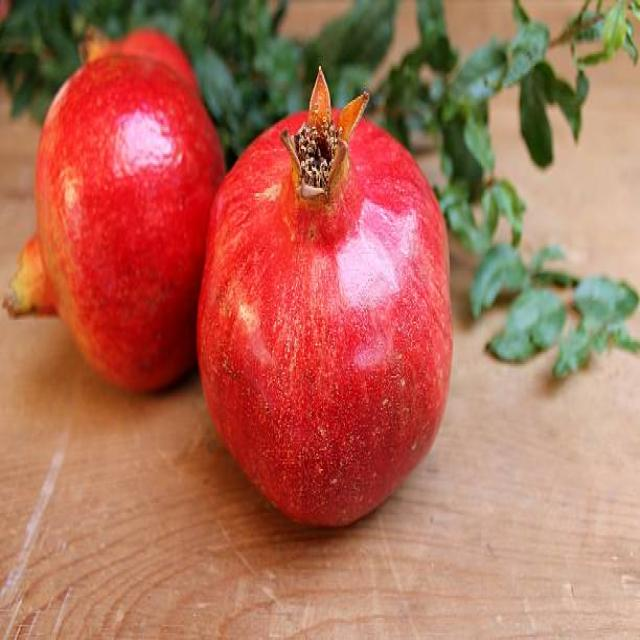Ripe: (196, 77, 457, 534), (13, 51, 204, 389)
